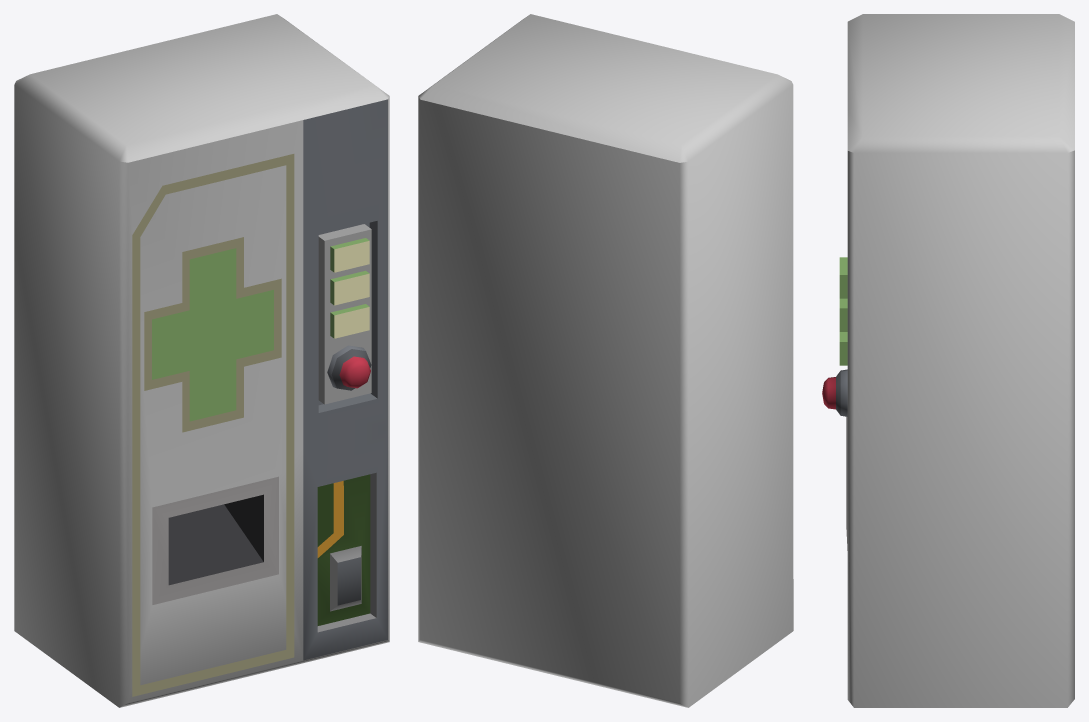
File: NanoMedPlus.glb
3 views of the same model, side by side, from view 1: azimuth 30°, elevation 25°; view 2: azimuth 150°, elevation 25°; view 3: azimuth 270°, elevation 25° (orthographic).
Visible parts, largest first — view 1: NanoMedPlus; view 2: NanoMedPlus; view 3: NanoMedPlus.
Part boxes in pixels (x1=…): NanoMedPlus: x1=14, y1=14, x2=389, y2=707; NanoMedPlus: x1=418, y1=14, x2=793, y2=707; NanoMedPlus: x1=822, y1=14, x2=1074, y2=707.
Size of the model in its own units: 0.8908 by 1.76 by 0.7107.
Materials: 1 (1 with a texture image).
